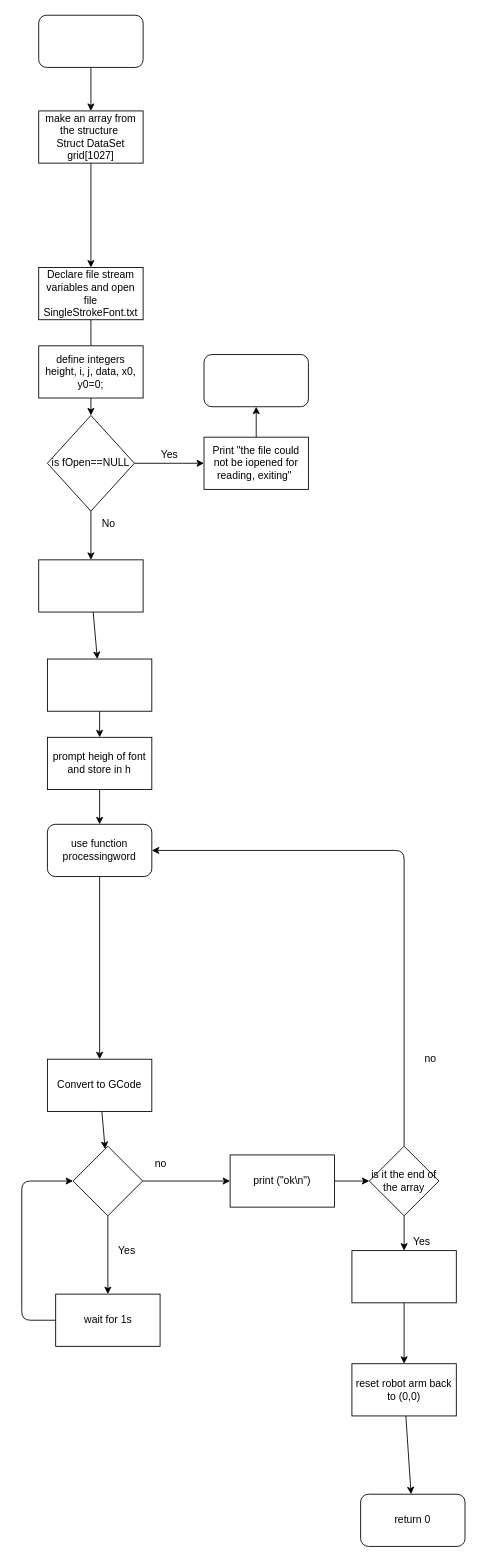
Some shapes in this 480 by 1562 pixel diagram are drawn without their labels. Each missing label, with the centre of its shape:
close file: (x=99, y=684)
int main(): (x=90, y=40)
is buffer full: (x=107, y=1180)
Print "end of data": (x=403, y=1276)
return -1: (x=255, y=380)
use the storedata function: (x=90, y=585)
